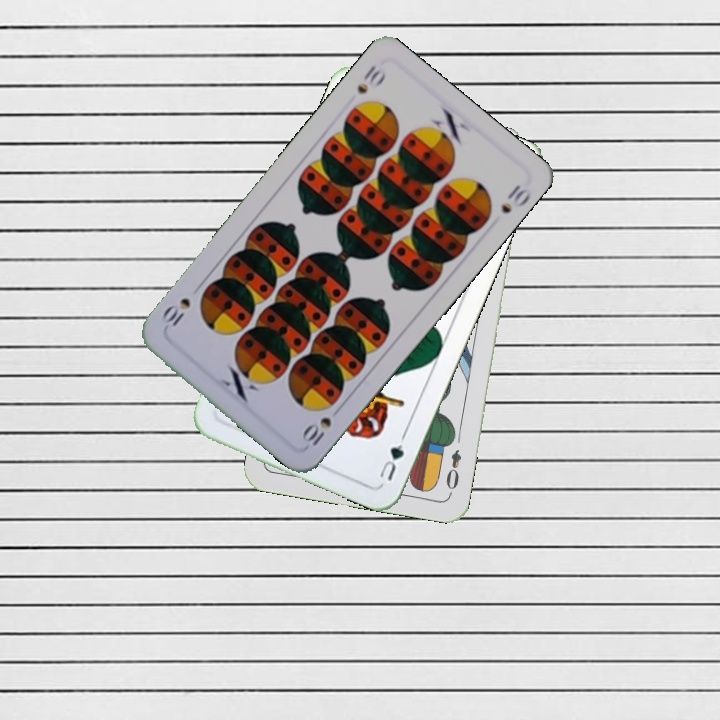EO: (442, 445, 464, 497)
GU: (375, 430, 409, 483)
S10: (297, 412, 335, 451), (353, 61, 389, 97)
